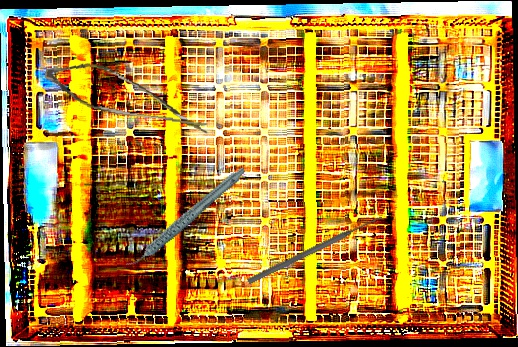Handpiece: (109, 165, 261, 269)
Micro Scissor: (40, 57, 215, 135)
Pusher: (246, 213, 384, 286)
